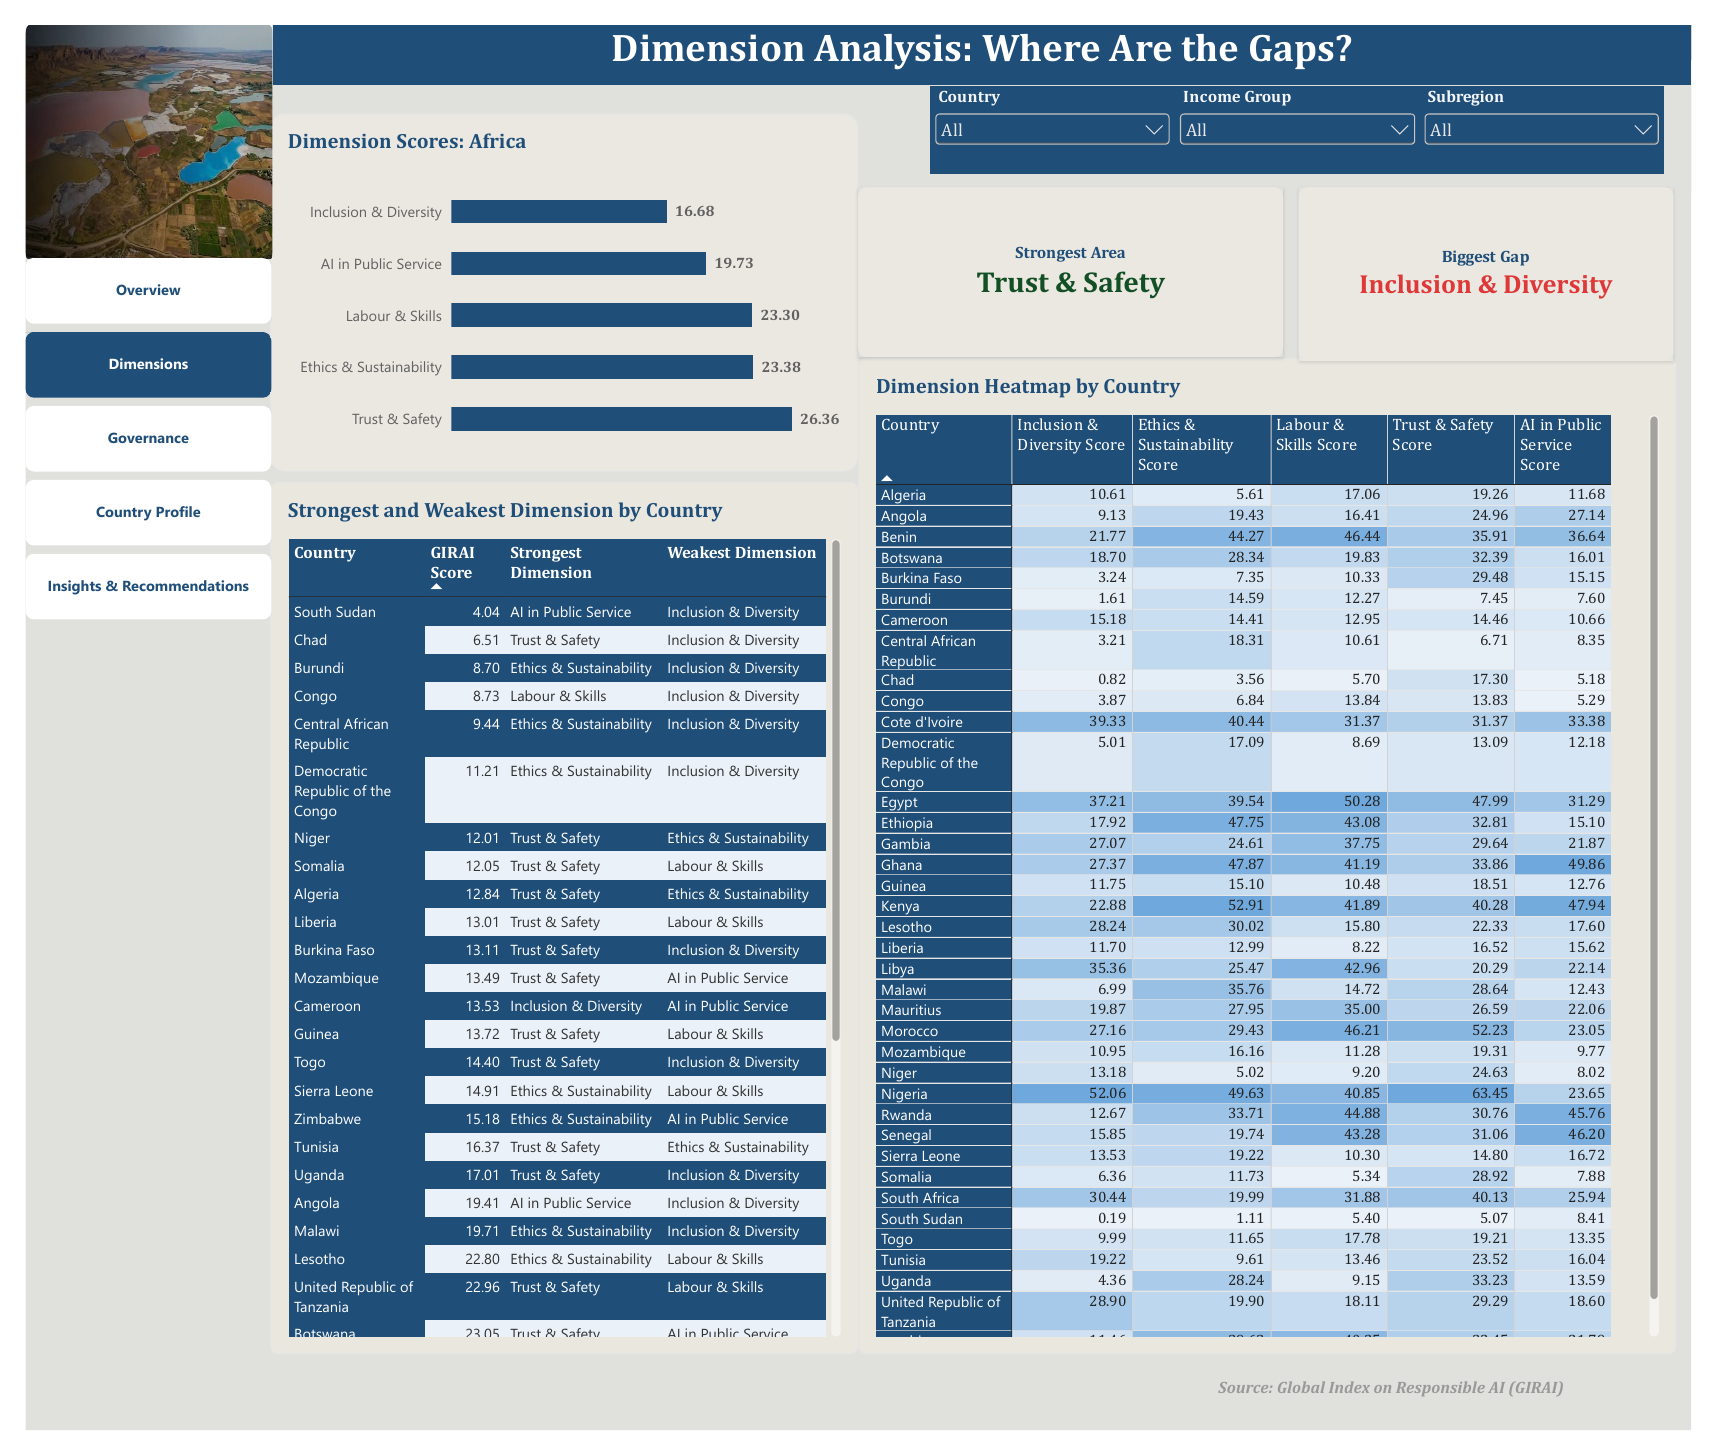

What the dashboard file says about the page in this screenshot:
{"tool":"powerbi","page":{"name":"Dimensions ","canvas":[1600,1350],"ordinal":1},"visuals":[{"type":"textbox","box":[237.5,0,1362.5,58.3],"z":0},{"type":"slicer","fields":{"Values":["Dim_Country.Subregion"]},"box":[1338.6,58.6,235.7,84.3],"z":1000},{"type":"slicer","fields":{"Values":["Dim_Country.Income Group"]},"box":[1104.3,58.6,235.7,84.3],"z":2000},{"type":"slicer","fields":{"Values":["Dim_Country.Country"]},"box":[868.6,58.6,235.7,84.3],"z":3000},{"type":"textbox","box":[1145.7,1300,388.6,48.6],"z":4000},{"type":"clusteredBarChart","title":"Dimension Scores: Africa","fields":{"Category":["Dimension List.Dimension"],"Y":["Dimension List.Dimension Score"]},"box":[235.4,85.4,564.6,343.8],"z":5000},{"type":"tableEx","title":"Strongest and Weakest Dimension by Country","fields":{"Values":["Dim_Country.Country","Measures (3).Selected GIRAI Score","Measures (3).Strongest Dimension","Measures (3).Weakest Dimension"]},"box":[234.5,439.3,565.5,838.1],"z":6000},{"type":"pivotTable","title":"Dimension Heatmap by Country","fields":{"Rows":["Dim_Country.Country"],"Values":["Measures (3).Inclusion & Diversity Score","Measures (3).Ethics & Sustainability Score","Measures (3).Labour & Skills Score","Measures (3).Trust & Safety Score","Measures (3).AI in Public Service Score"]},"box":[800,320,785.7,957.1],"z":7000},{"type":"cardVisual","title":"Strongest Area","fields":{"Data":["Measures (3).Strongest Dimension"]},"box":[800,156.2,408.3,162.5],"z":8000},{"type":"cardVisual","title":"Strongest Area","fields":{"Data":["Measures (3).Weakest Dimension"]},"box":[1222.9,156.2,360.4,166.7],"z":9000},{"type":"image","box":[0,0,237.3,223.7],"z":10000},{"type":"pageNavigator","box":[0,223.7,235.6,350.8],"z":11000}]}

Visuals, with their boxes in screenshot pixels (x1, y1, x2, y2), scaled from the page's 1600x1350 canvas onto the 1717x1456 screenshot:
textbox: <region>255, 0, 1716, 63</region>
slicer - Dim_Country.Subregion: <region>1436, 63, 1689, 154</region>
slicer - Dim_Country.Income Group: <region>1185, 63, 1438, 154</region>
slicer - Dim_Country.Country: <region>932, 63, 1185, 154</region>
textbox: <region>1229, 1402, 1646, 1454</region>
"Dimension Scores: Africa" clusteredBarChart: <region>253, 92, 859, 463</region>
"Strongest and Weakest Dimension by Country" tableEx: <region>252, 474, 859, 1378</region>
"Dimension Heatmap by Country" pivotTable: <region>859, 345, 1702, 1377</region>
"Strongest Area" cardVisual: <region>859, 168, 1297, 344</region>
"Strongest Area" cardVisual: <region>1312, 168, 1699, 348</region>
image: <region>0, 0, 255, 241</region>
pageNavigator: <region>0, 241, 253, 620</region>
